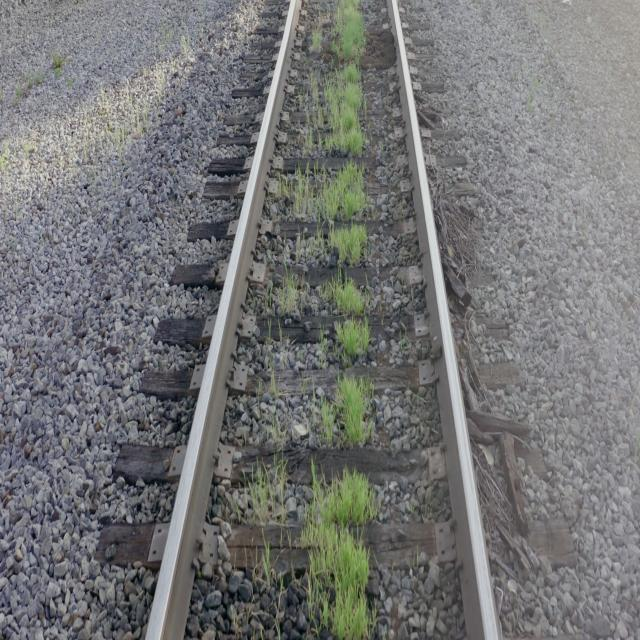Plant: (279, 0, 370, 267), (301, 469, 375, 640), (304, 471, 374, 638), (319, 276, 370, 364), (319, 373, 371, 447), (251, 471, 271, 522), (284, 278, 305, 316)
